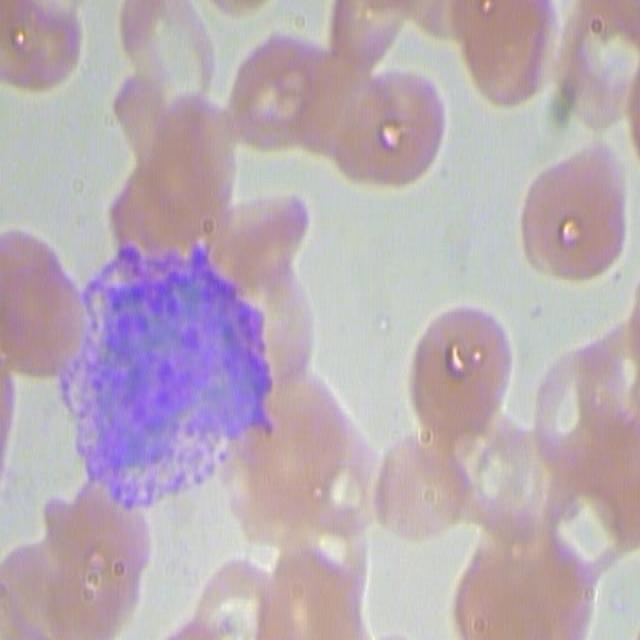RBC: (530, 383, 640, 573), (244, 377, 372, 539), (48, 465, 150, 640), (251, 520, 380, 640), (460, 519, 599, 630), (532, 152, 634, 291), (423, 290, 506, 454), (0, 223, 70, 412), (326, 76, 446, 177), (114, 1, 227, 99), (388, 416, 462, 564), (450, 0, 557, 101), (236, 32, 325, 153), (174, 549, 287, 640), (107, 174, 233, 245), (564, 304, 640, 417), (0, 0, 91, 94), (254, 265, 321, 391), (458, 420, 545, 516), (220, 188, 324, 268), (339, 3, 433, 91), (567, 0, 636, 115), (159, 91, 227, 203), (3, 518, 62, 640), (94, 72, 172, 159), (0, 340, 13, 457)
WBC: (69, 245, 270, 513)
